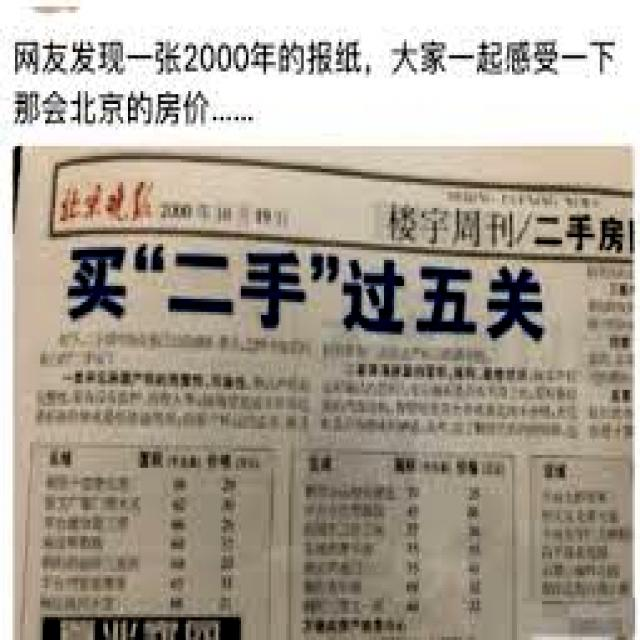Paper: (11, 139, 636, 640)
